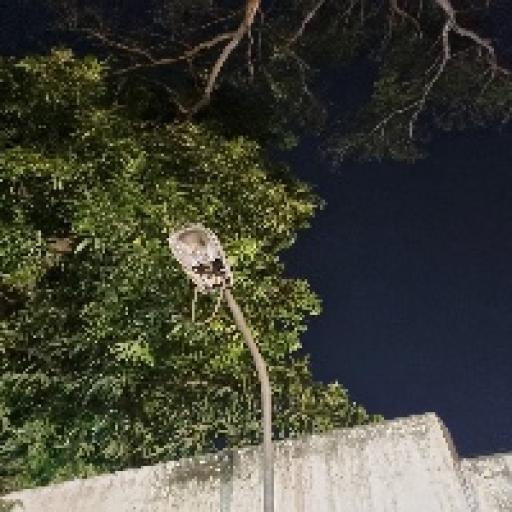Not Working: (158, 217, 253, 308)
